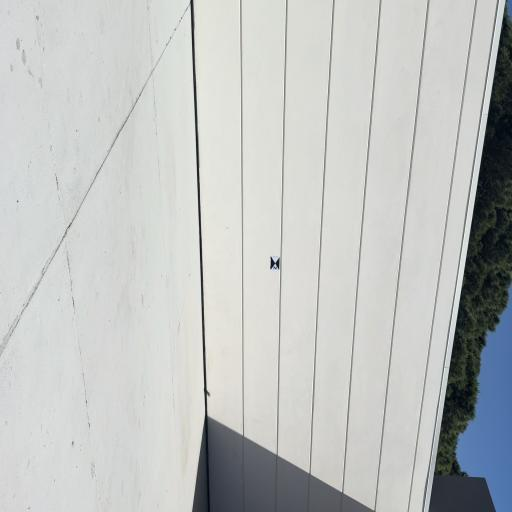target7: (270, 256, 280, 272)
